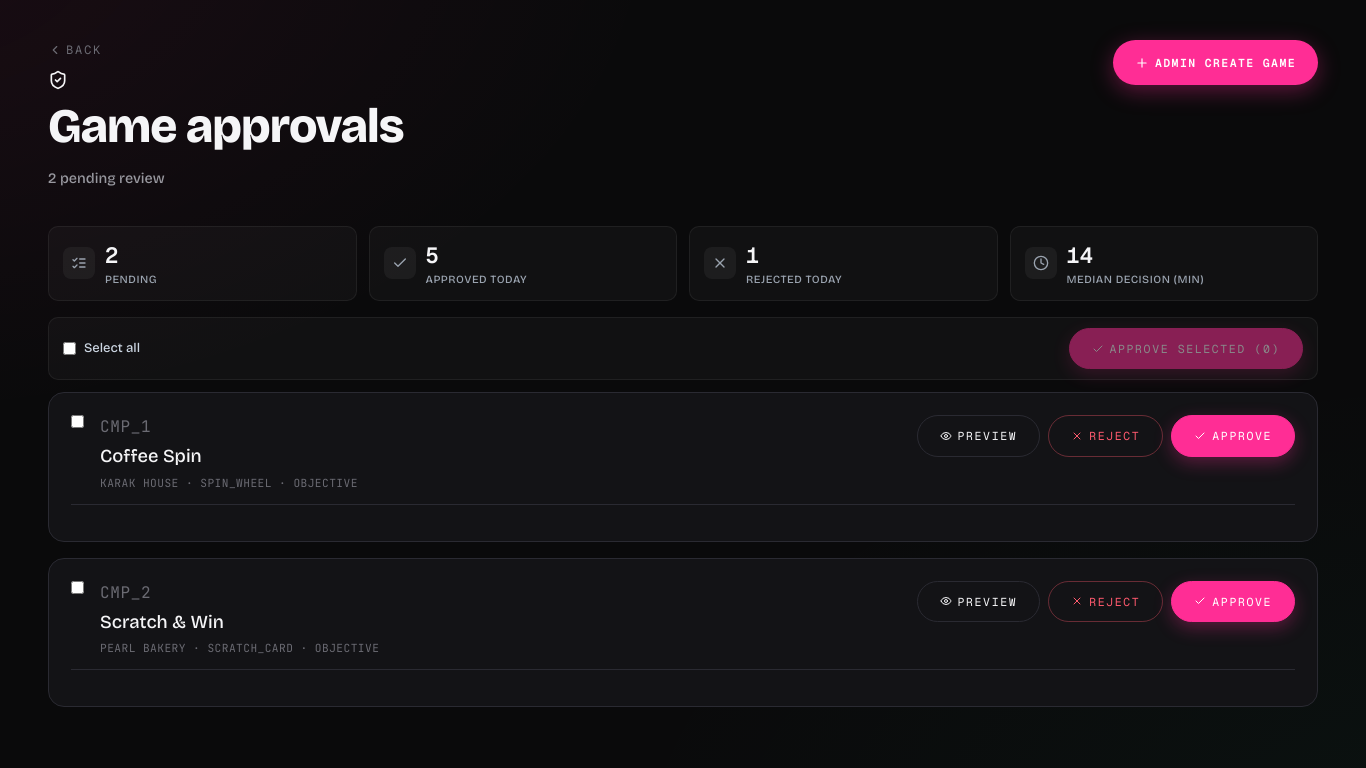
Phase 23 Session 5 — AdminGamesApproval › clicking the preview button opens the drawer
The image size is (1366, 768).
Expected: the heading "Coffee Spin" is shown, [100,445,202,467]
Click the button with test id "admin-preview-cmp_1".
click(978, 436)  # box [916,415,1040,457]
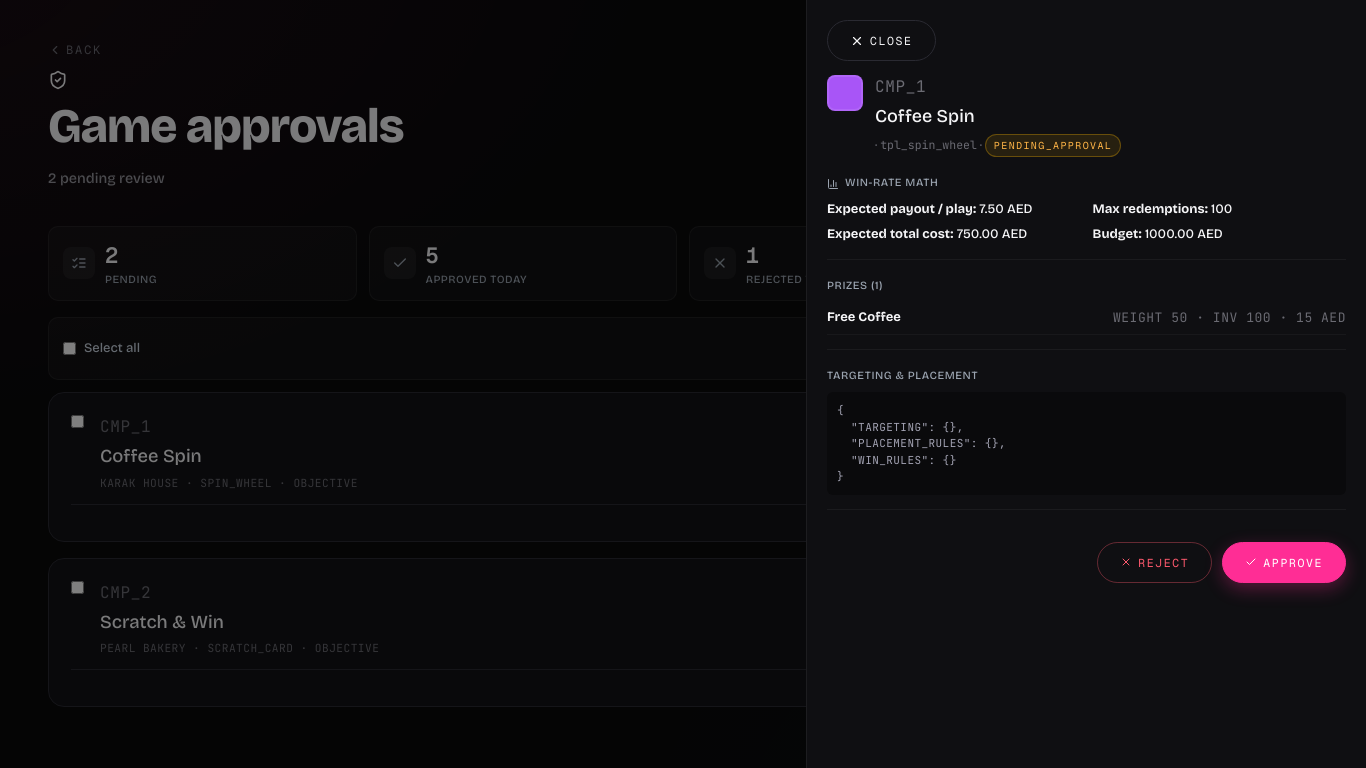
Expected: the element with test id "campaign-drawer" is shown, [806,0,1365,767]
